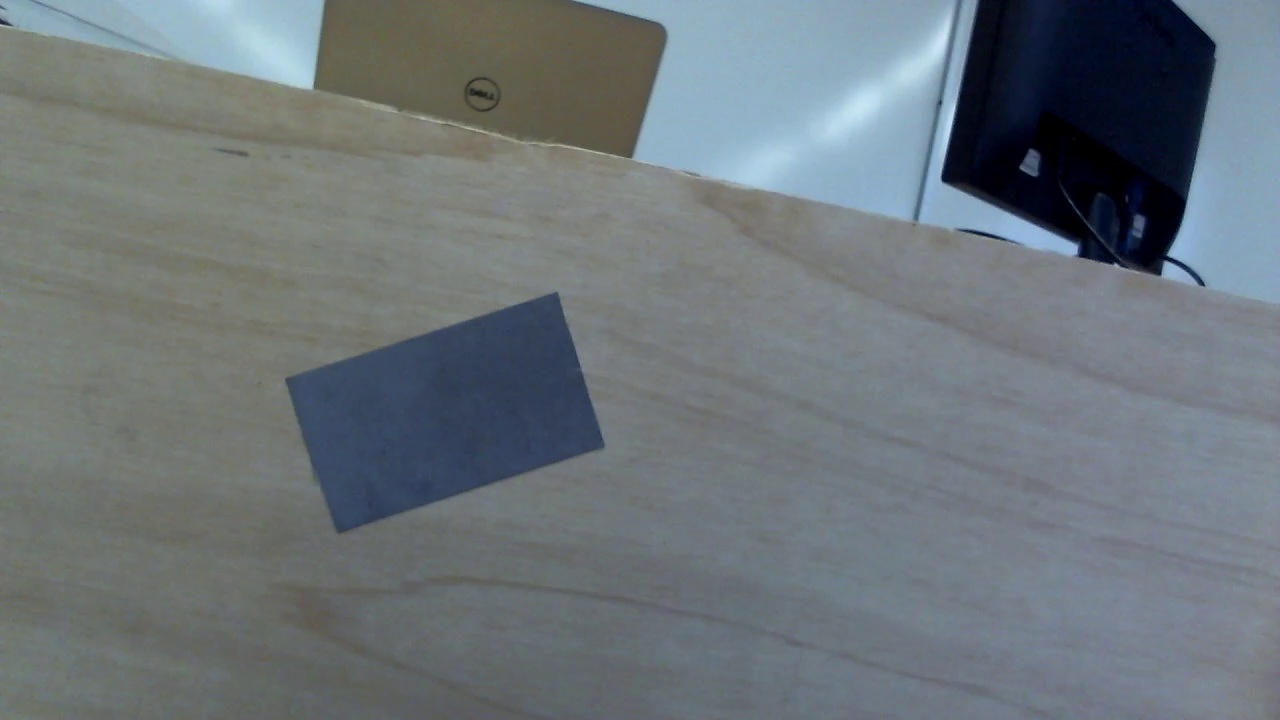Tape: (287, 293, 610, 534)
